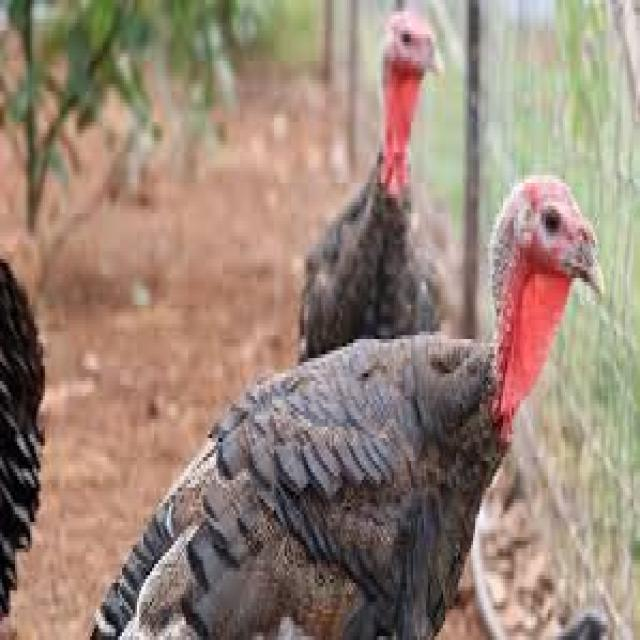Turkey: (92, 160, 620, 640), (299, 9, 450, 347)
